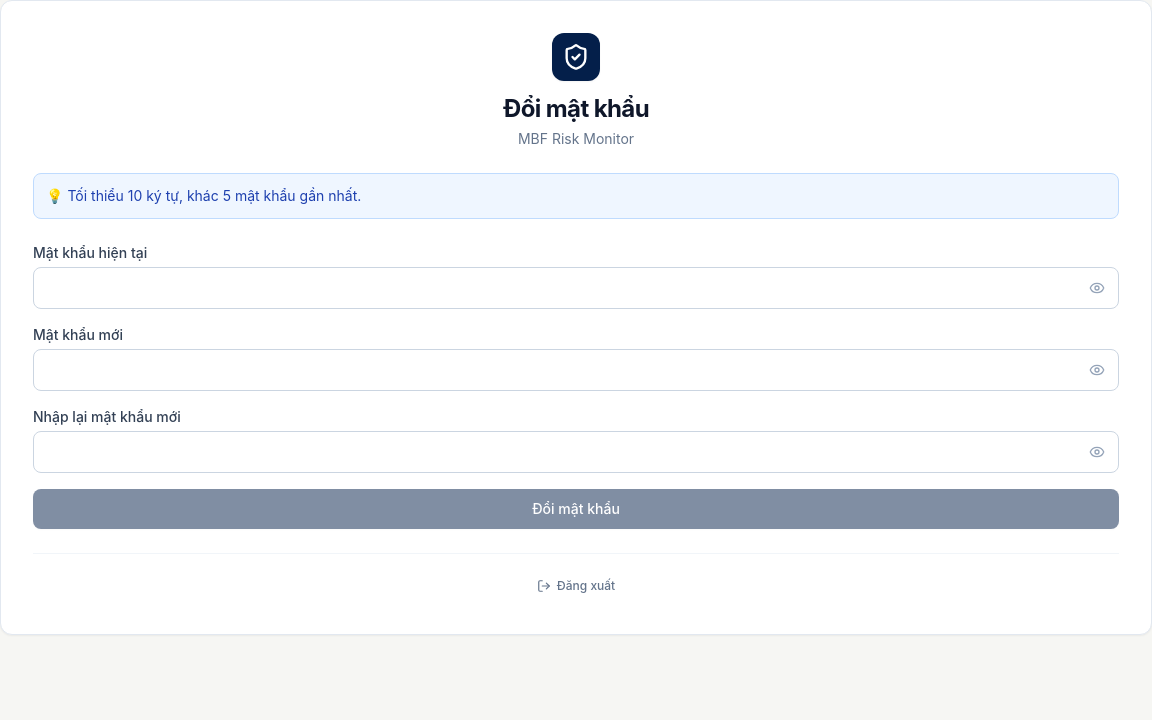
Test: ChangePasswordView Component › shows client error early when confirm password does not match
Type "CurrentPass123" into the password field labelled "Mật khẩu hiện tại". click: {"x": 576, "y": 288}
box: [33,267,1119,309]
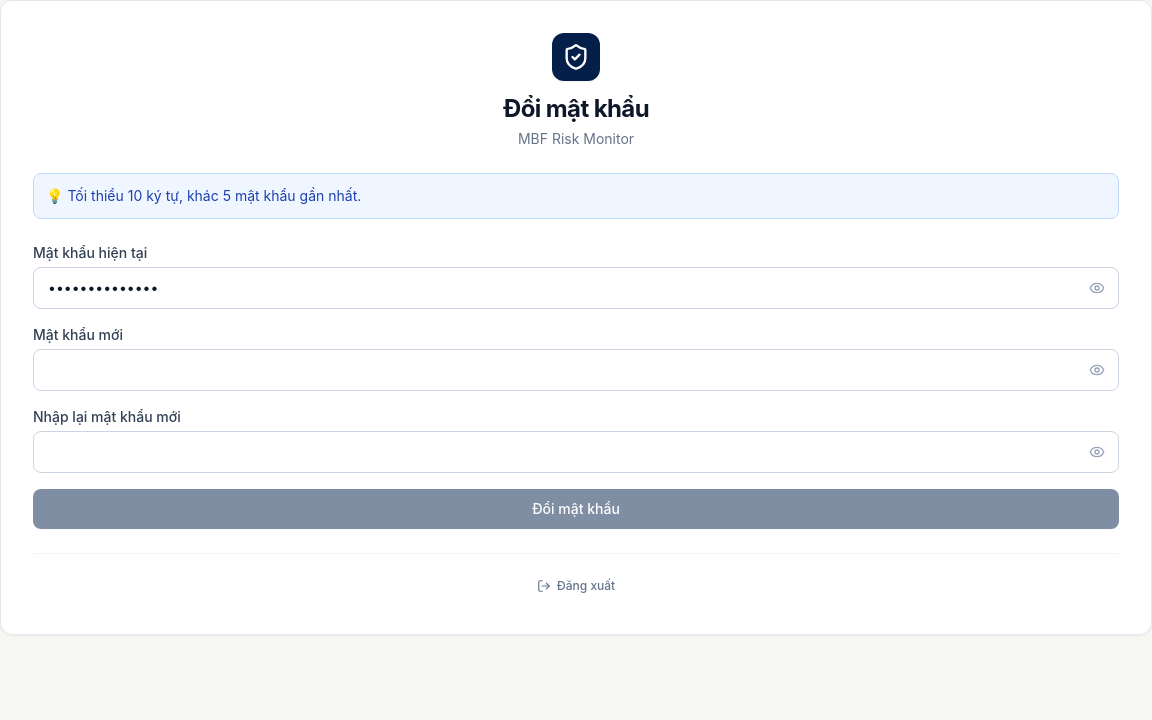
Type "NewPassword123" into the password field labelled "Mật khẩu mới". click: {"x": 576, "y": 370}
box: [33,349,1119,391]
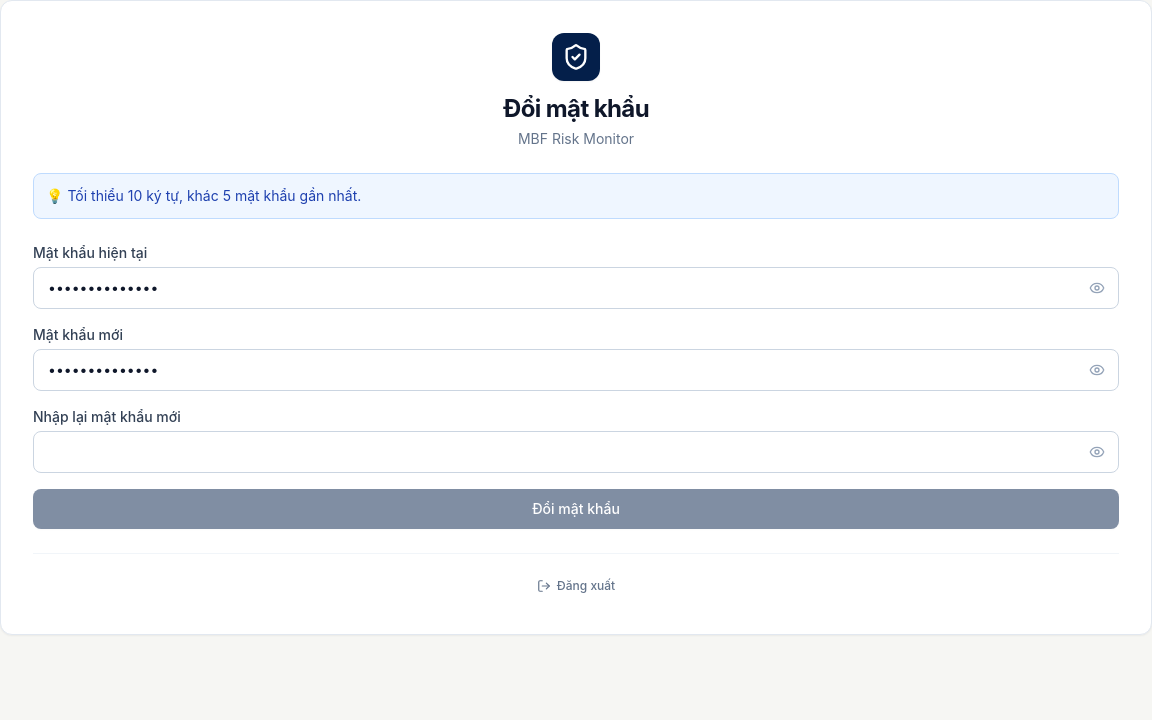
Type "DifferentPass" into the password field labelled "Nhập lại mật khẩu mới". click: {"x": 576, "y": 452}
box: [33,431,1119,473]
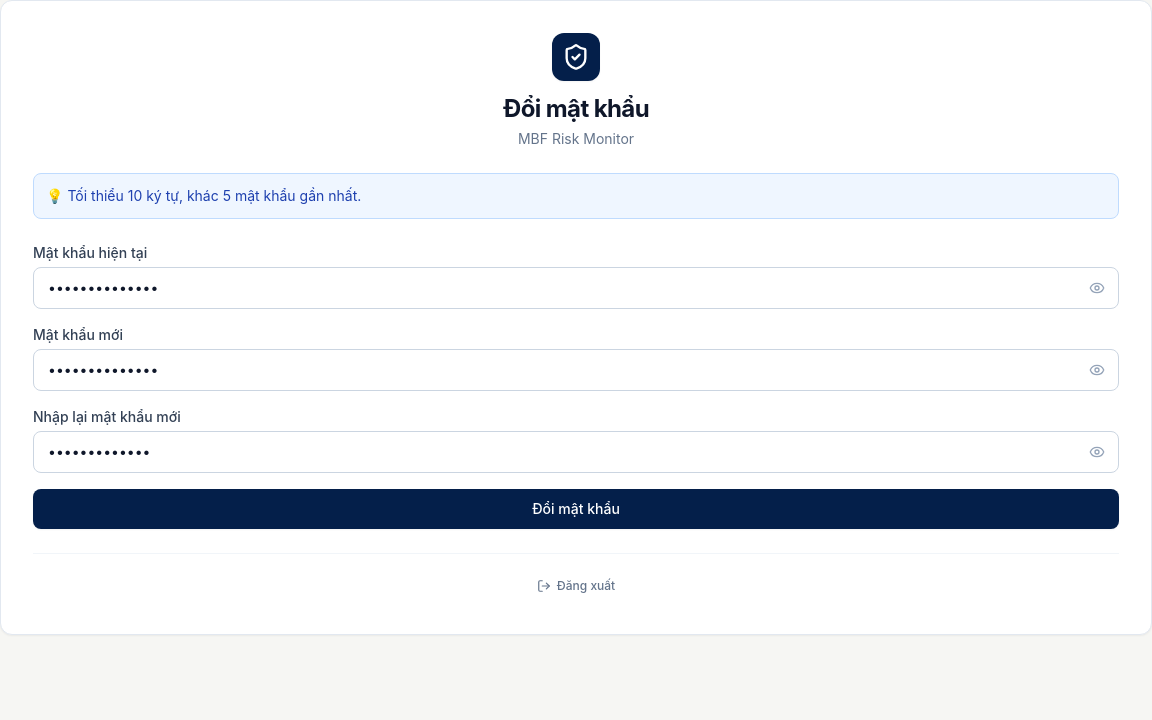
Click the button "Đổi mật khẩu". click: {"x": 576, "y": 509}
box: [33,489,1119,529]
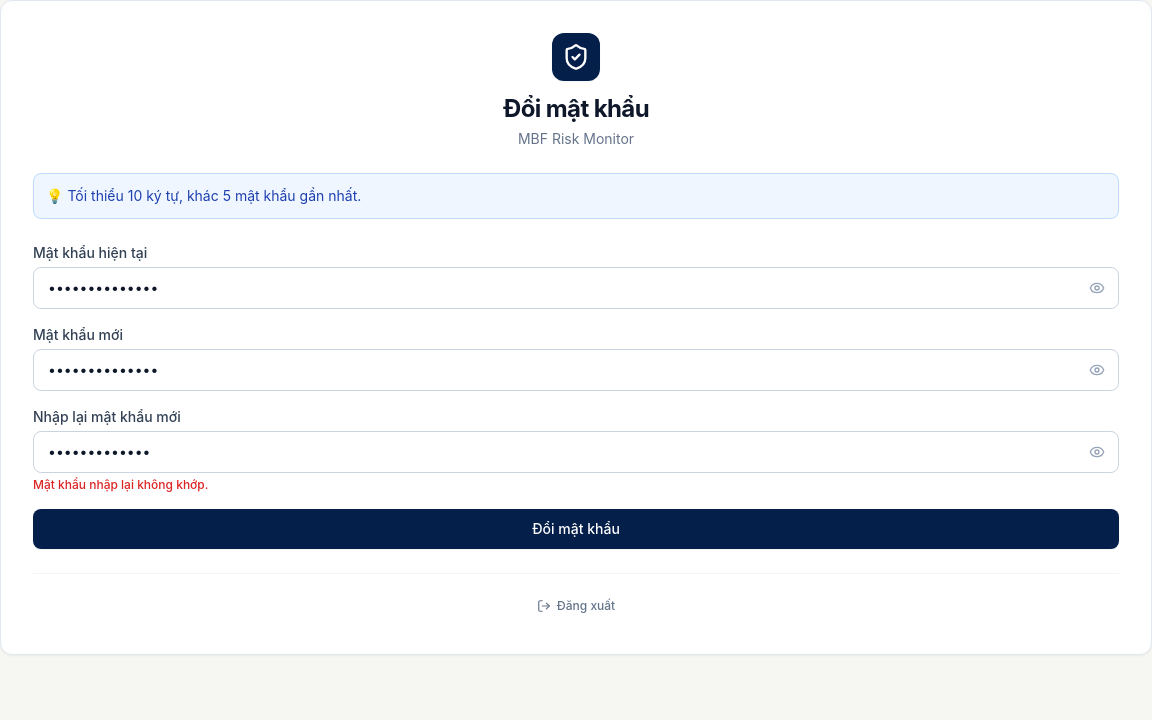
Expected: the text "Mật khẩu nhập lại không khớp." is shown, [33,477,208,492]
